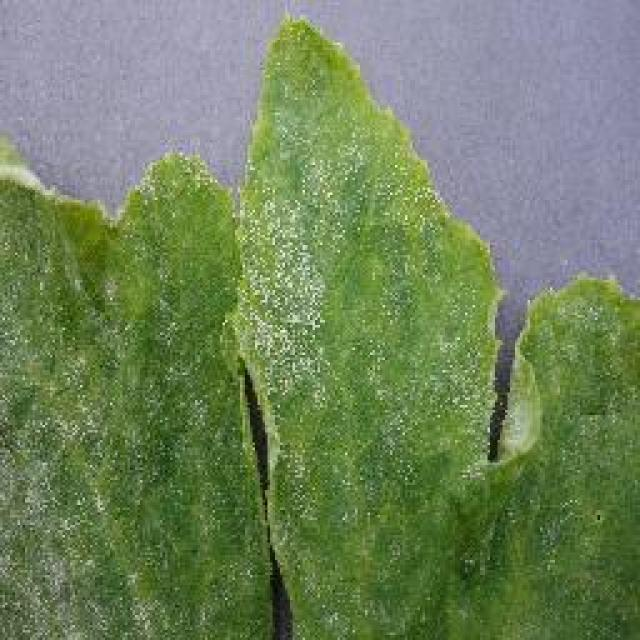Squ_Powdery_mildew: (3, 174, 398, 598)
